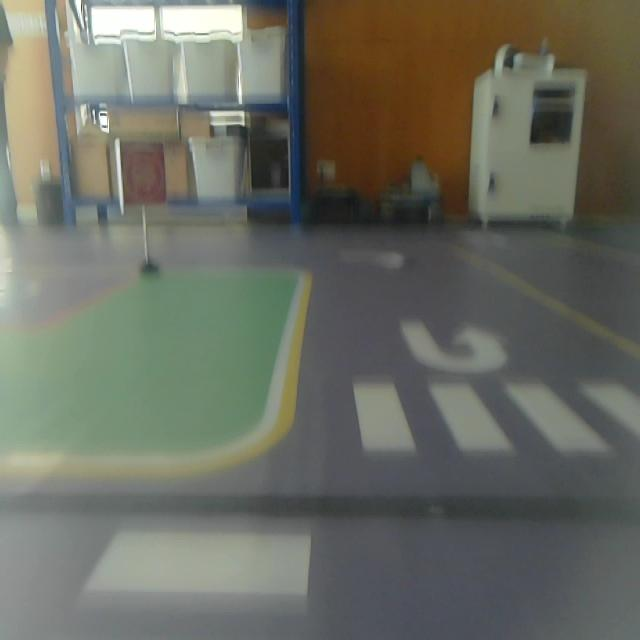left_lane: (261, 268, 314, 440)
right_lane: (450, 243, 640, 359)
